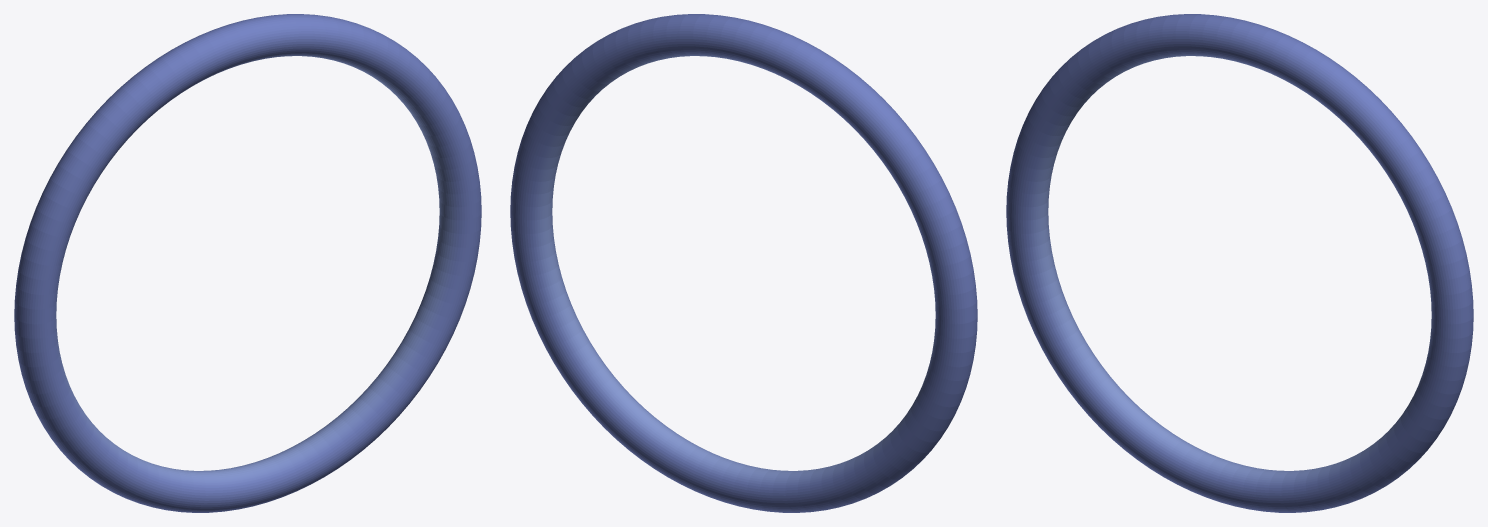
3 views of the same model, side by side, from view 1: azimuth 30°, elevation 25°; view 2: azimuth 150°, elevation 25°; view 3: azimuth 330°, elevation 25° (orthographic).
Parts seen in each view (by area): view 1: world; view 2: world; view 3: world.
Boxes of the visible parts, x1,y1,x2,y2 form: world: (14,14,481,512); world: (510,14,977,512); world: (1006,14,1473,512).
Bounding box in the file's own units: 25.33 × 25.33 × 2.
